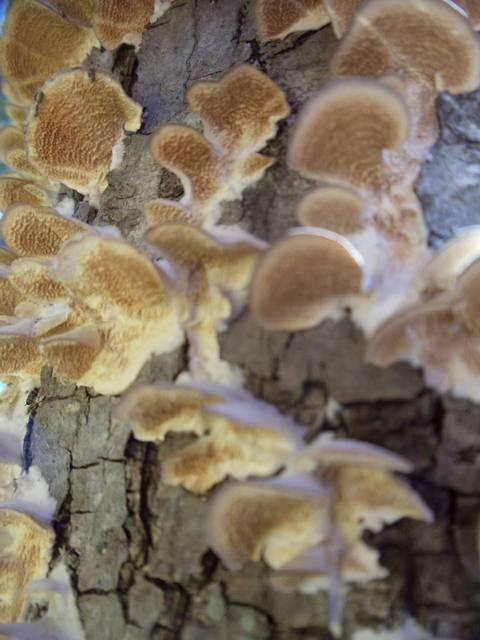poisonous_mushroom: (0, 0, 480, 617), (18, 63, 144, 204)
